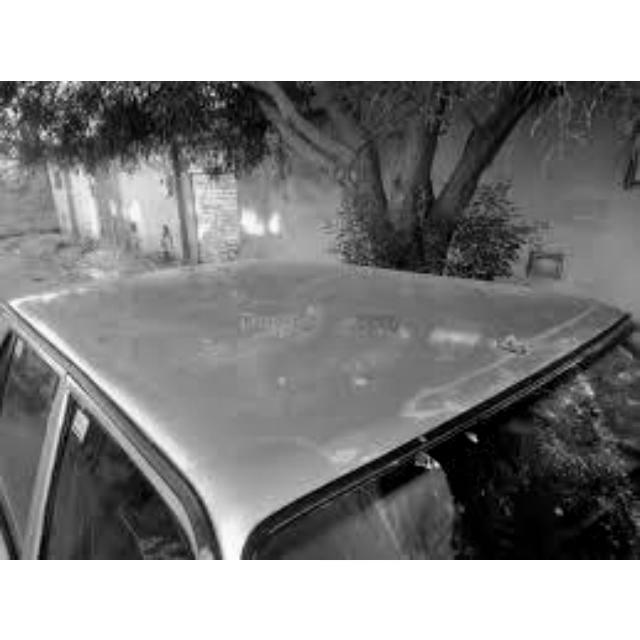Front-windscreen-damage: (423, 323, 637, 557)
